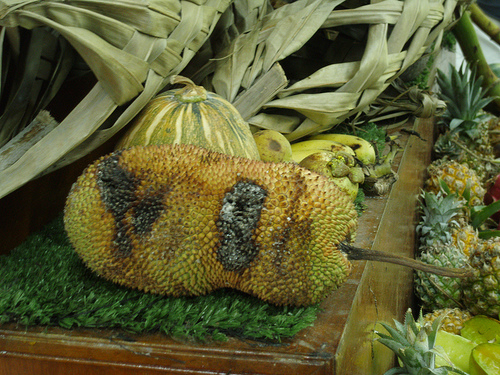jackfruit: (67, 147, 483, 308)
